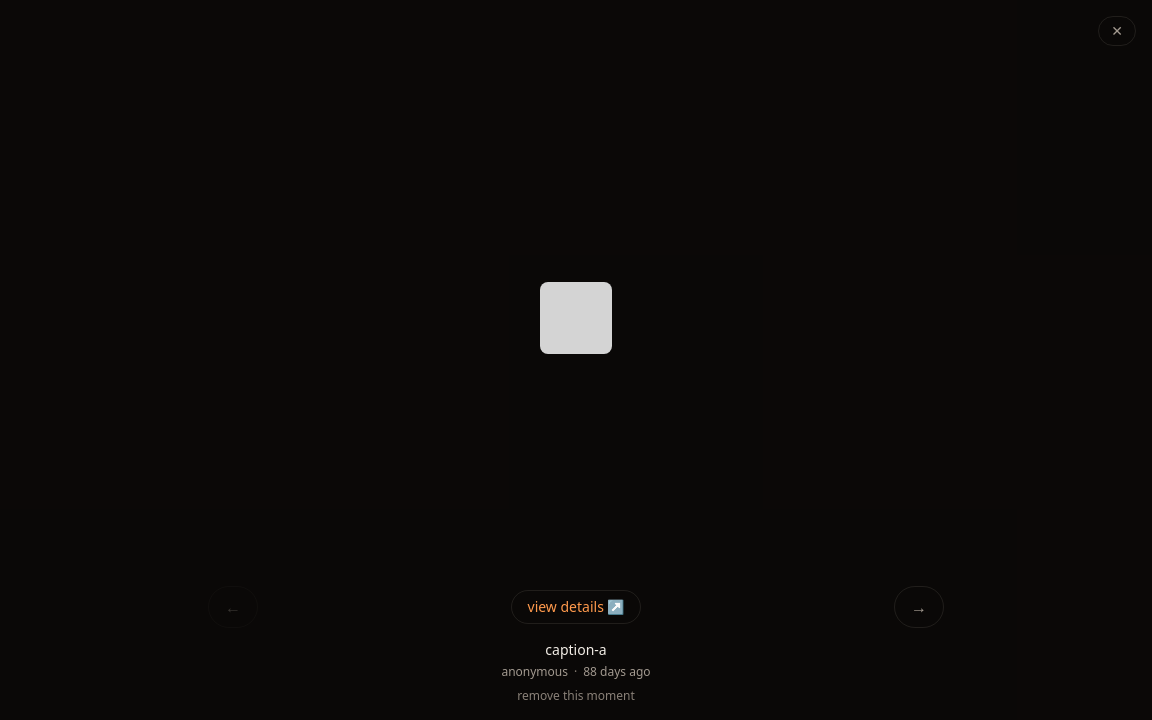
Test: Lightbox remove control › navigating disarms a confirmation left open on the previous moment
Click the button "remove this moment" at (576, 696), box 517,688 -> 635,704
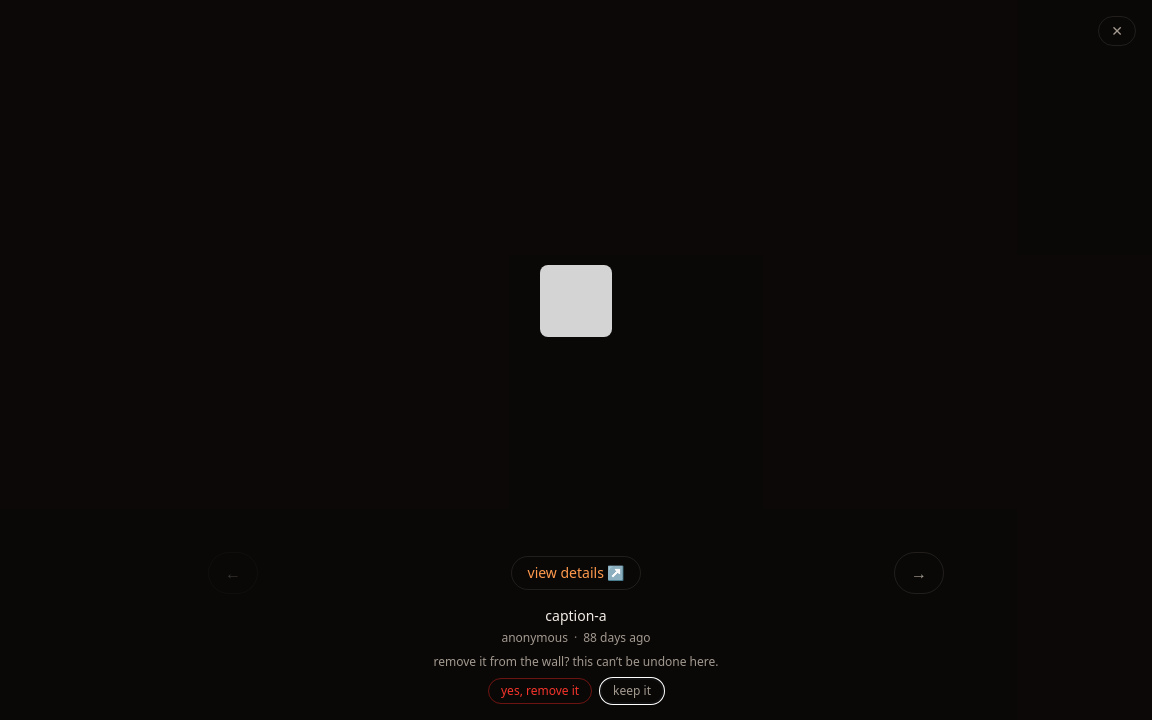
Expected: the button "yes, remove it" is shown, 488,678 -> 592,704
